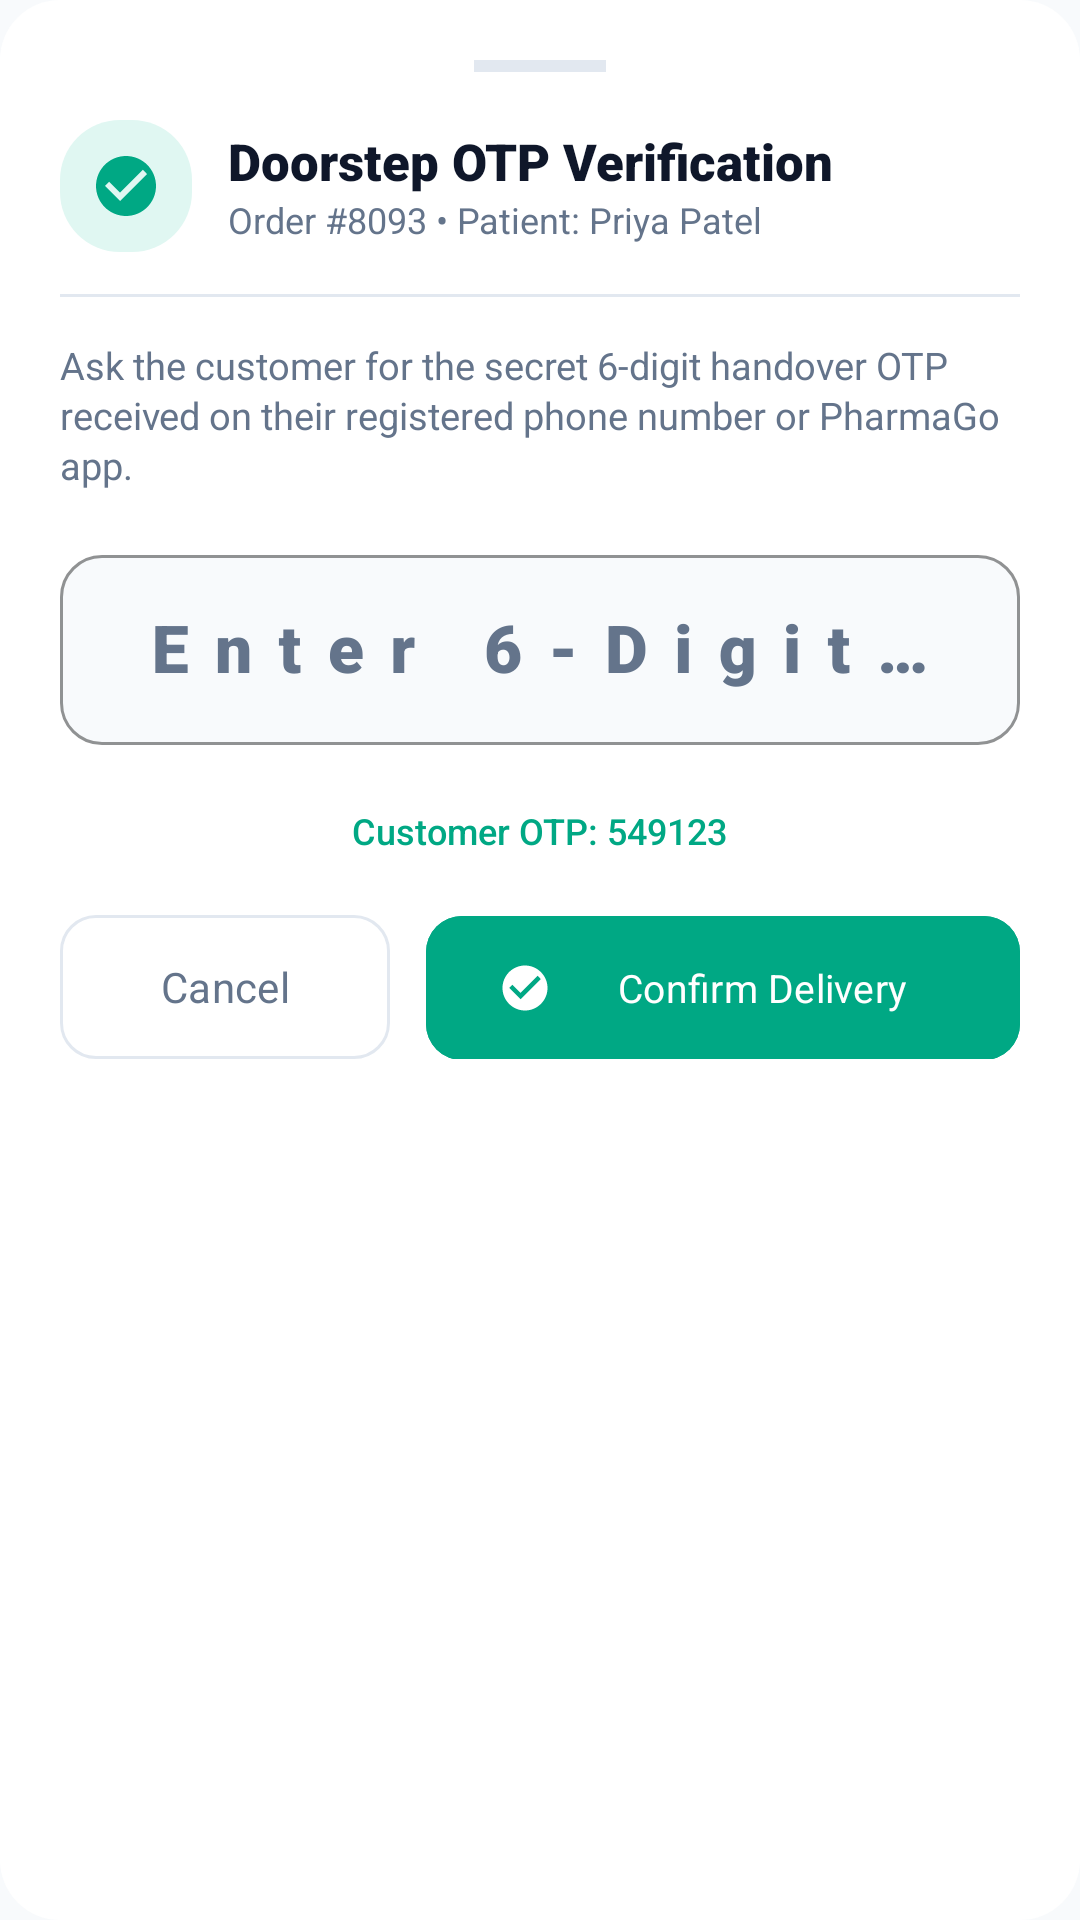

Icons on this 1080×1920 Android screen, each with the point to tap as (x=x, y=y):
check circle: (x=126, y=186)
